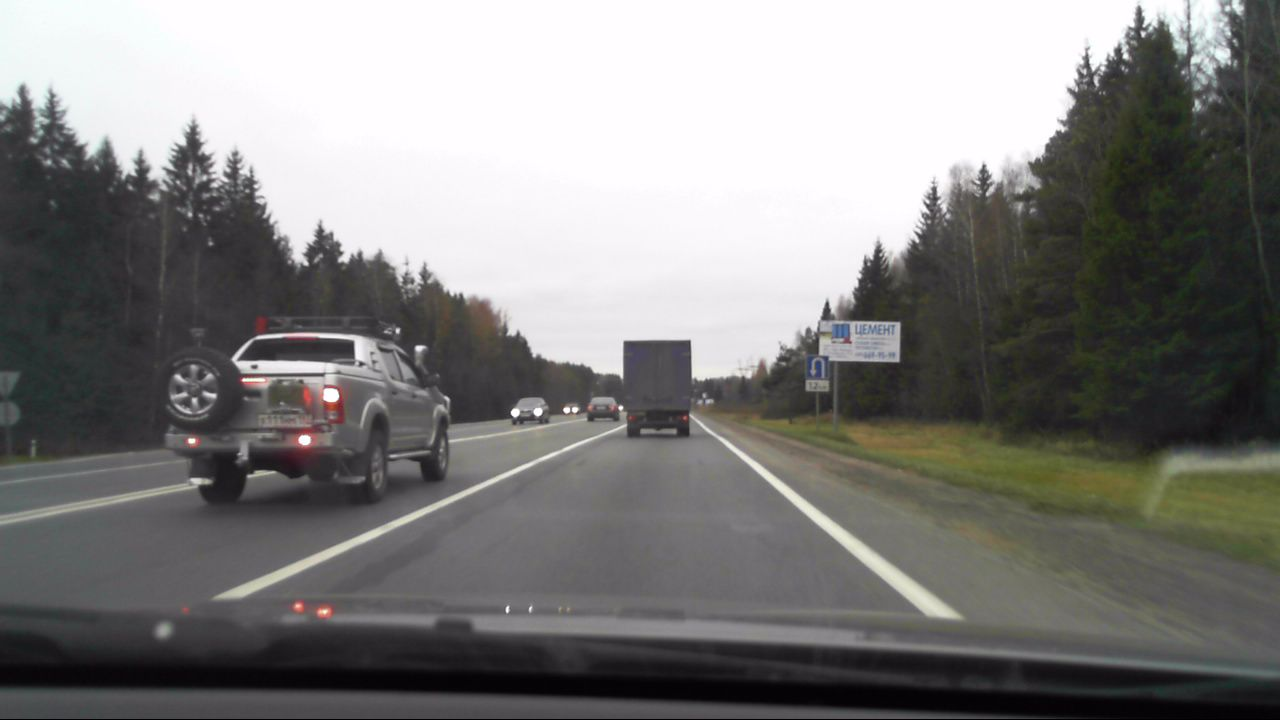U-turn: (807, 356, 828, 378)
